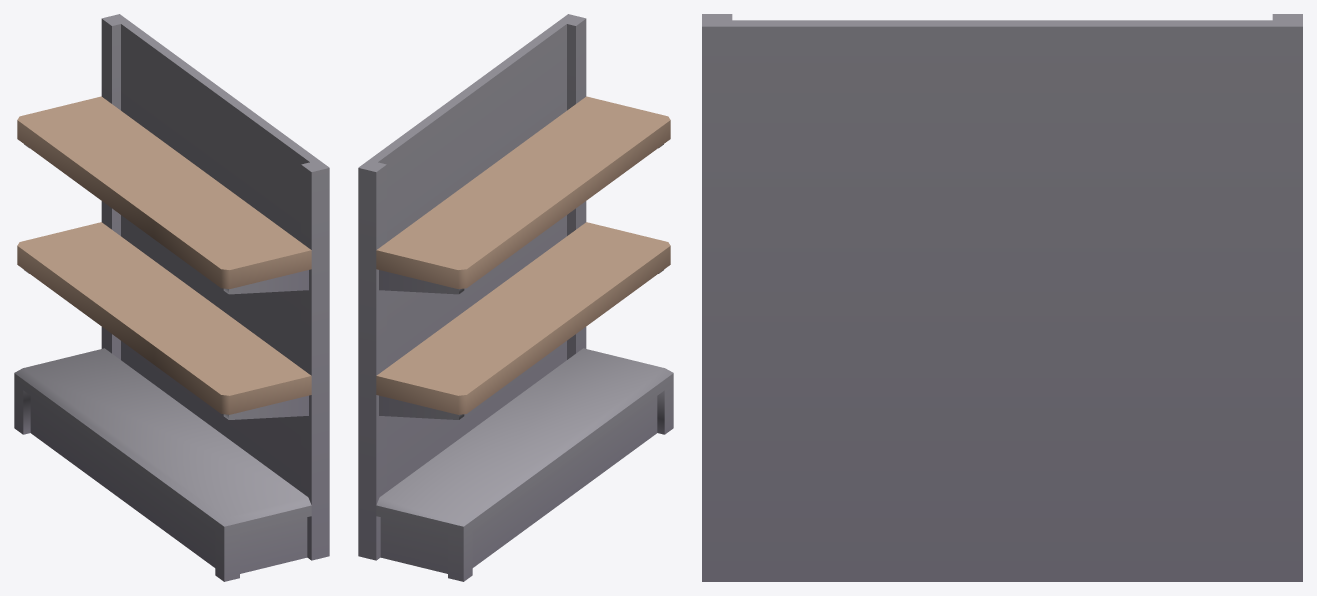
Rendered from retail-shelf-wide-low.glb.
3 views of the same model, side by side, from view 1: azimuth 30°, elevation 25°; view 2: azimuth 150°, elevation 25°; view 3: azimuth 270°, elevation 25° (orthographic). The views are drawn at different scales.
Visible parts, largest first — view 1: retail-shelf-wide-low; view 2: retail-shelf-wide-low; view 3: retail-shelf-wide-low.
Part boxes in pixels (x1,y1,x2,y2): retail-shelf-wide-low: (14,14,329,581); retail-shelf-wide-low: (358,14,673,581); retail-shelf-wide-low: (702,14,1302,581).
Size of the model in its own units: 0.29 by 1.02 by 1.
